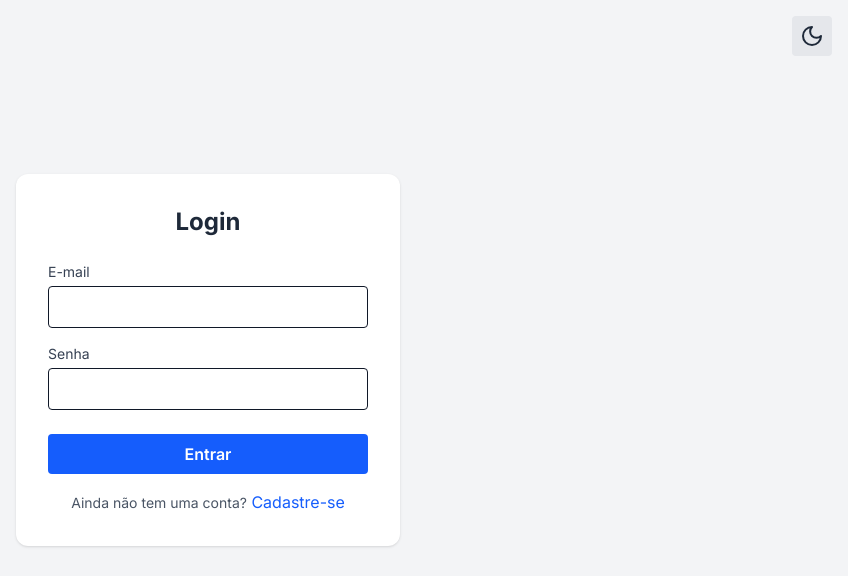
Test case: Login Page › Form Validation › should show validation error for short password
Type valid email but short password
Type "test@example.com" into the field at (208, 307), box [48, 286, 368, 328]
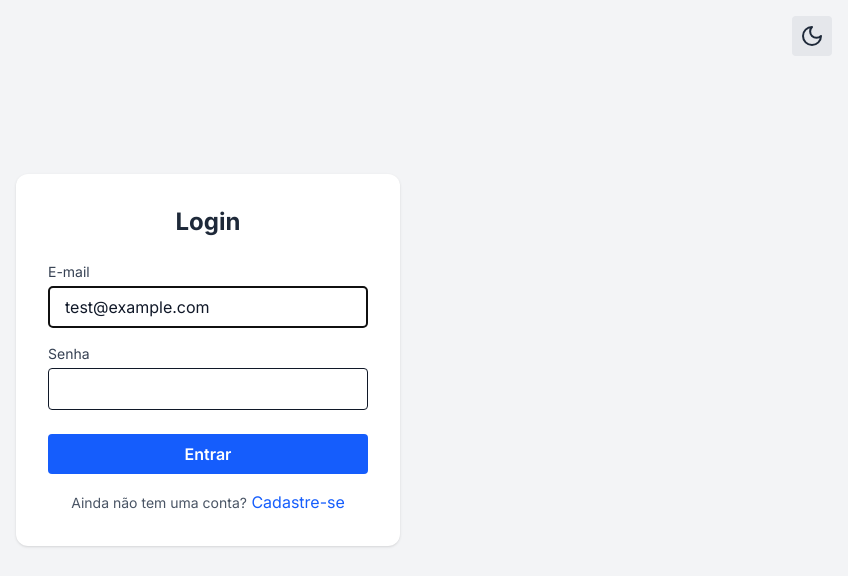
Type "12345" into the password field at (208, 389), box [48, 368, 368, 410]
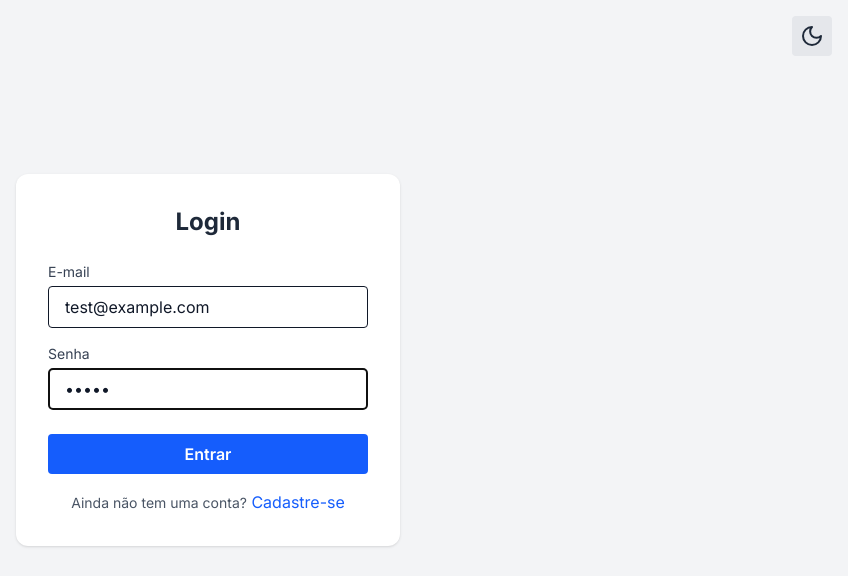
Submit the form, box [16, 174, 400, 546]
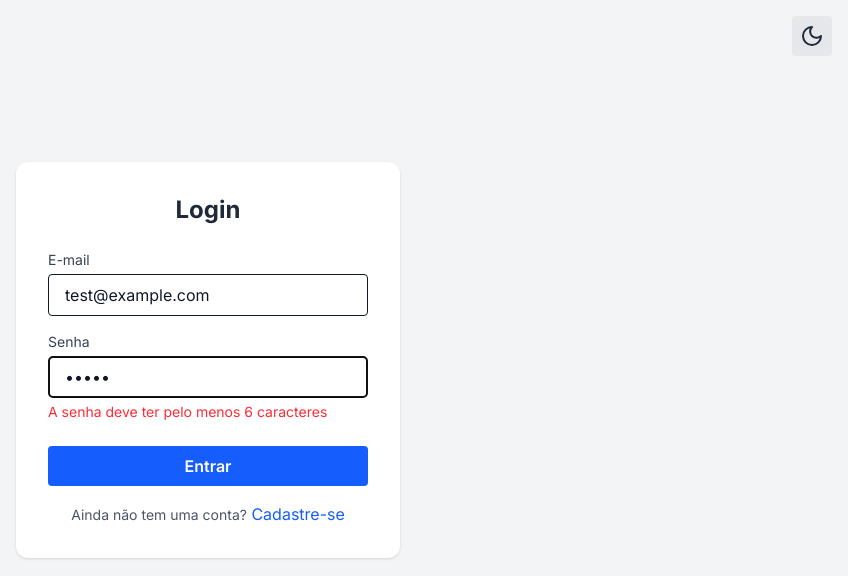
Check: the text "A senha deve ter pelo menos 6 caracteres" is shown, box [48, 402, 368, 422]
